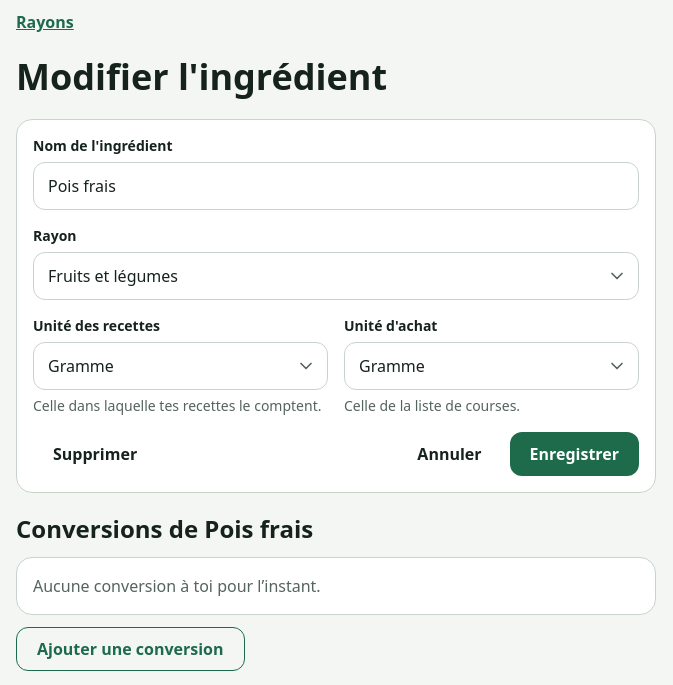
Test: IngredientEditorView : le même nom dans deux rayons › le même refus à la modification (changement de nom ou de rayon) dit la même chose
expect the dropdown labelled "Unité des recettes" shows "Gramme": met, box x1=33 y1=342 x2=328 y2=390
Replace the text in the field labelled "Nom de l'ingrédient" with "Petits pois" at (336, 186), box x1=33 y1=162 x2=639 y2=210
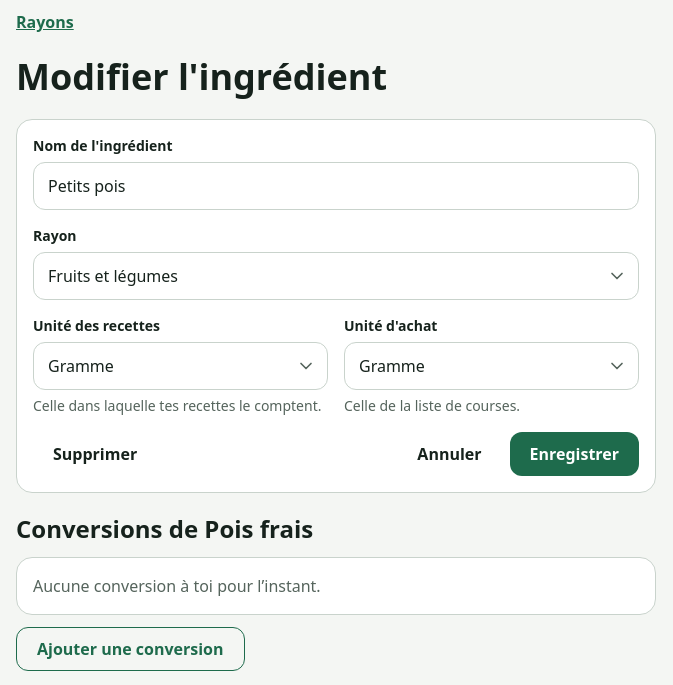
Select "Surgelés" in the dropdown labelled "Rayon" at (336, 276), box x1=33 y1=252 x2=639 y2=300
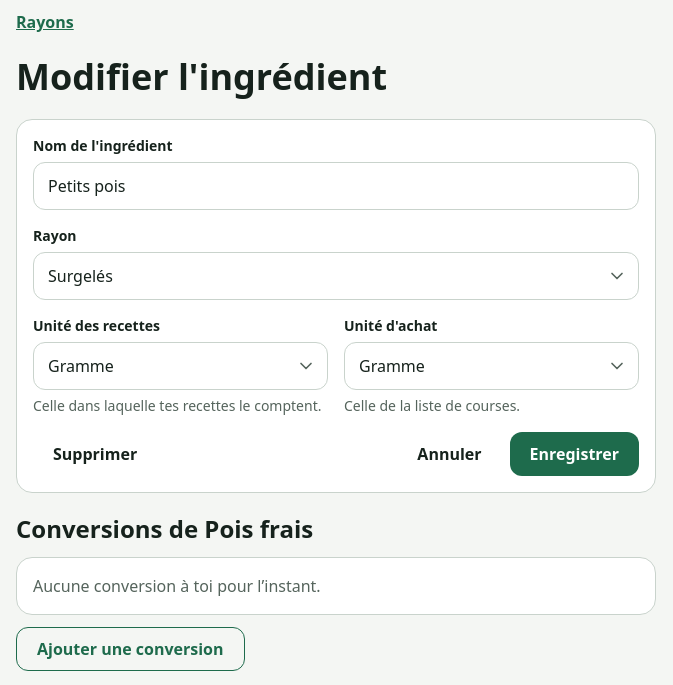
Submit the form, box x1=16 y1=119 x2=656 y2=493
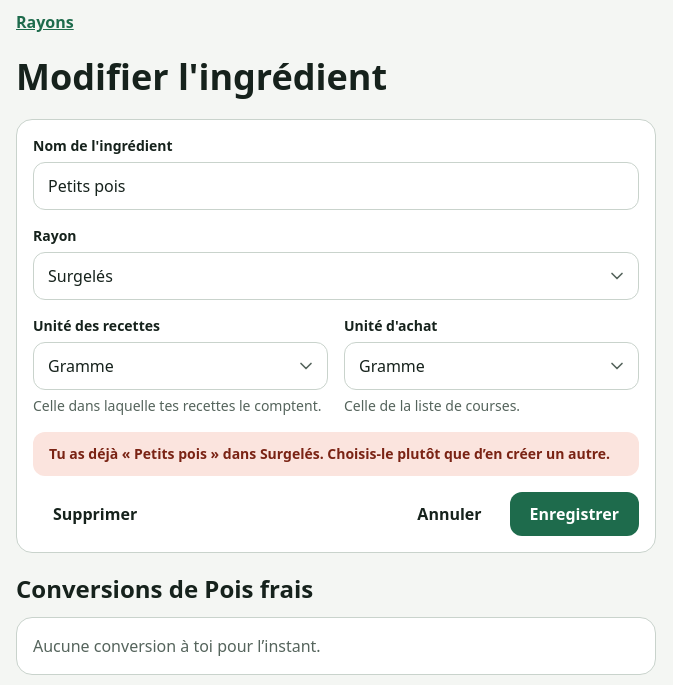
expect the message shows "Tu as déjà « Petits pois » dans Surgelés. Choisis-le plutôt que d’en créer un autre.": met, box x1=49 y1=444 x2=610 y2=463
